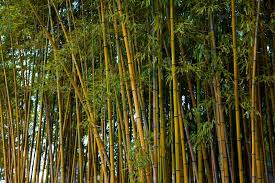bamboo: (6, 4, 265, 175)
